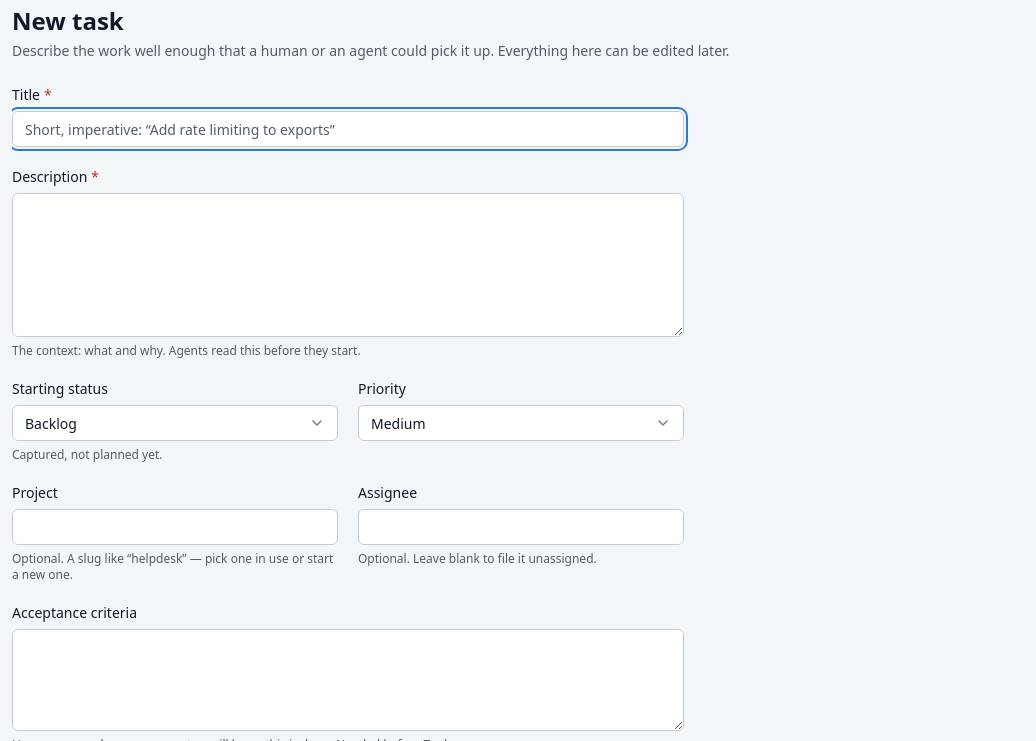
Test case: TaskCreatePage › focuses the topmost invalid control after a 422, including a select
This screenshot has width=1036, height=741.
Type "Add rate limiting to exports" into the field labelled "Title*" at (348, 129), box [12, 111, 684, 147]
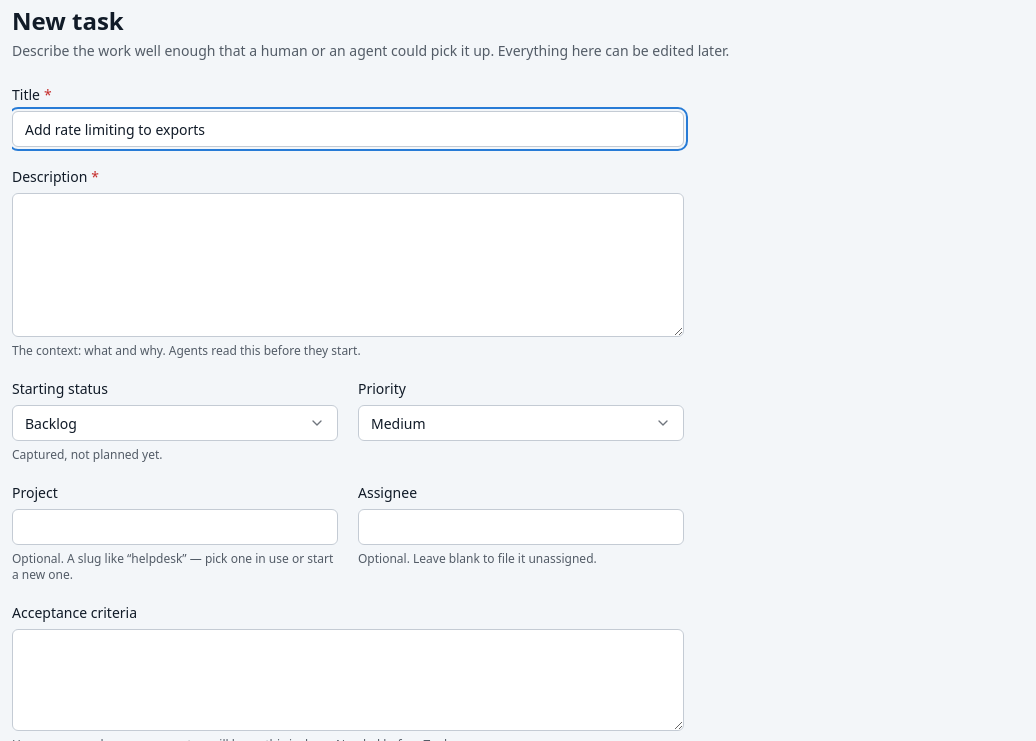
Type "Exports time out under load; throttle per client." into the text box labelled "Description*" at (348, 265), box [12, 193, 684, 337]
(page scrolled)
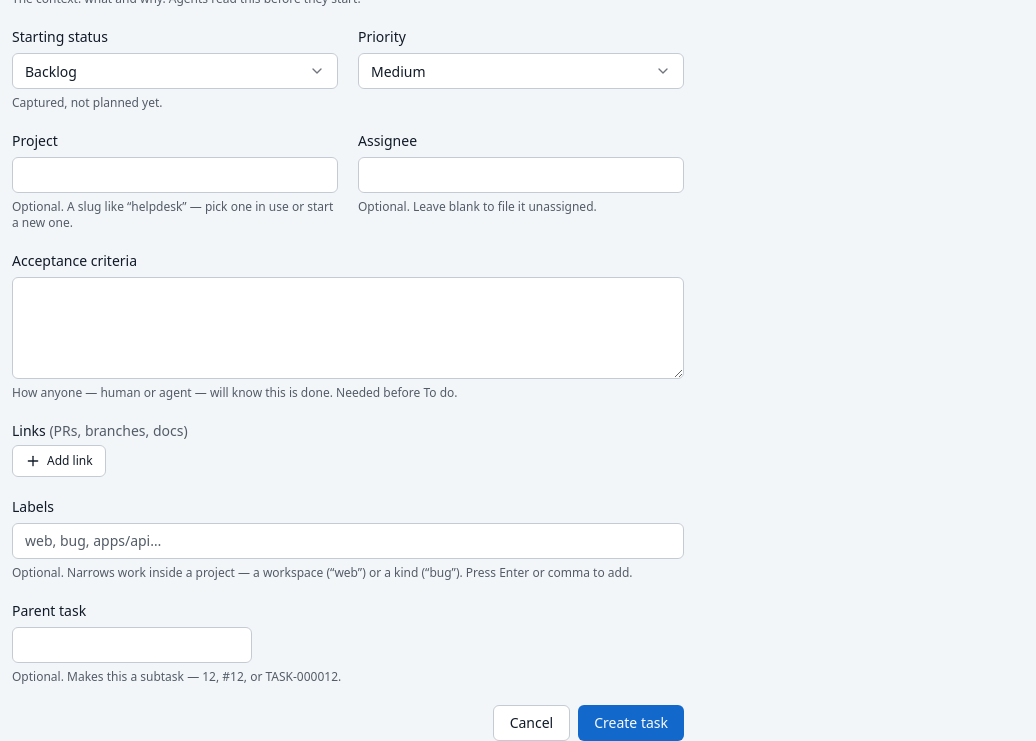
Click the button "Create task" at (631, 723), box [578, 705, 684, 740]
(page scrolled)
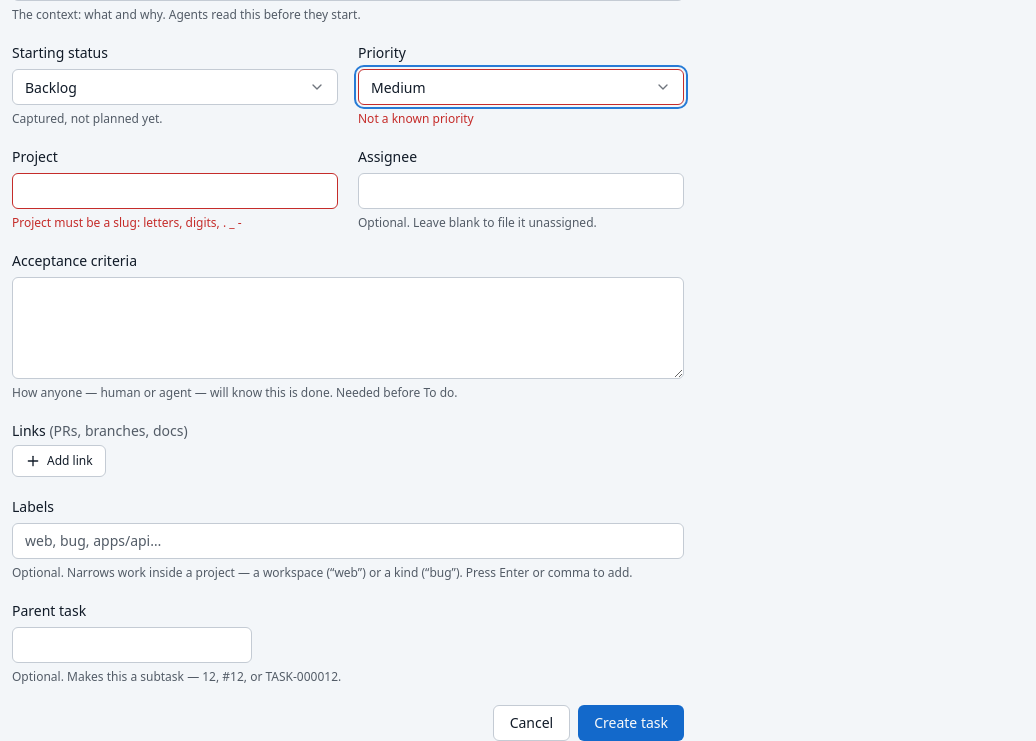
expect the text "Not a known priority" is shown: met, box [358, 110, 474, 127]
